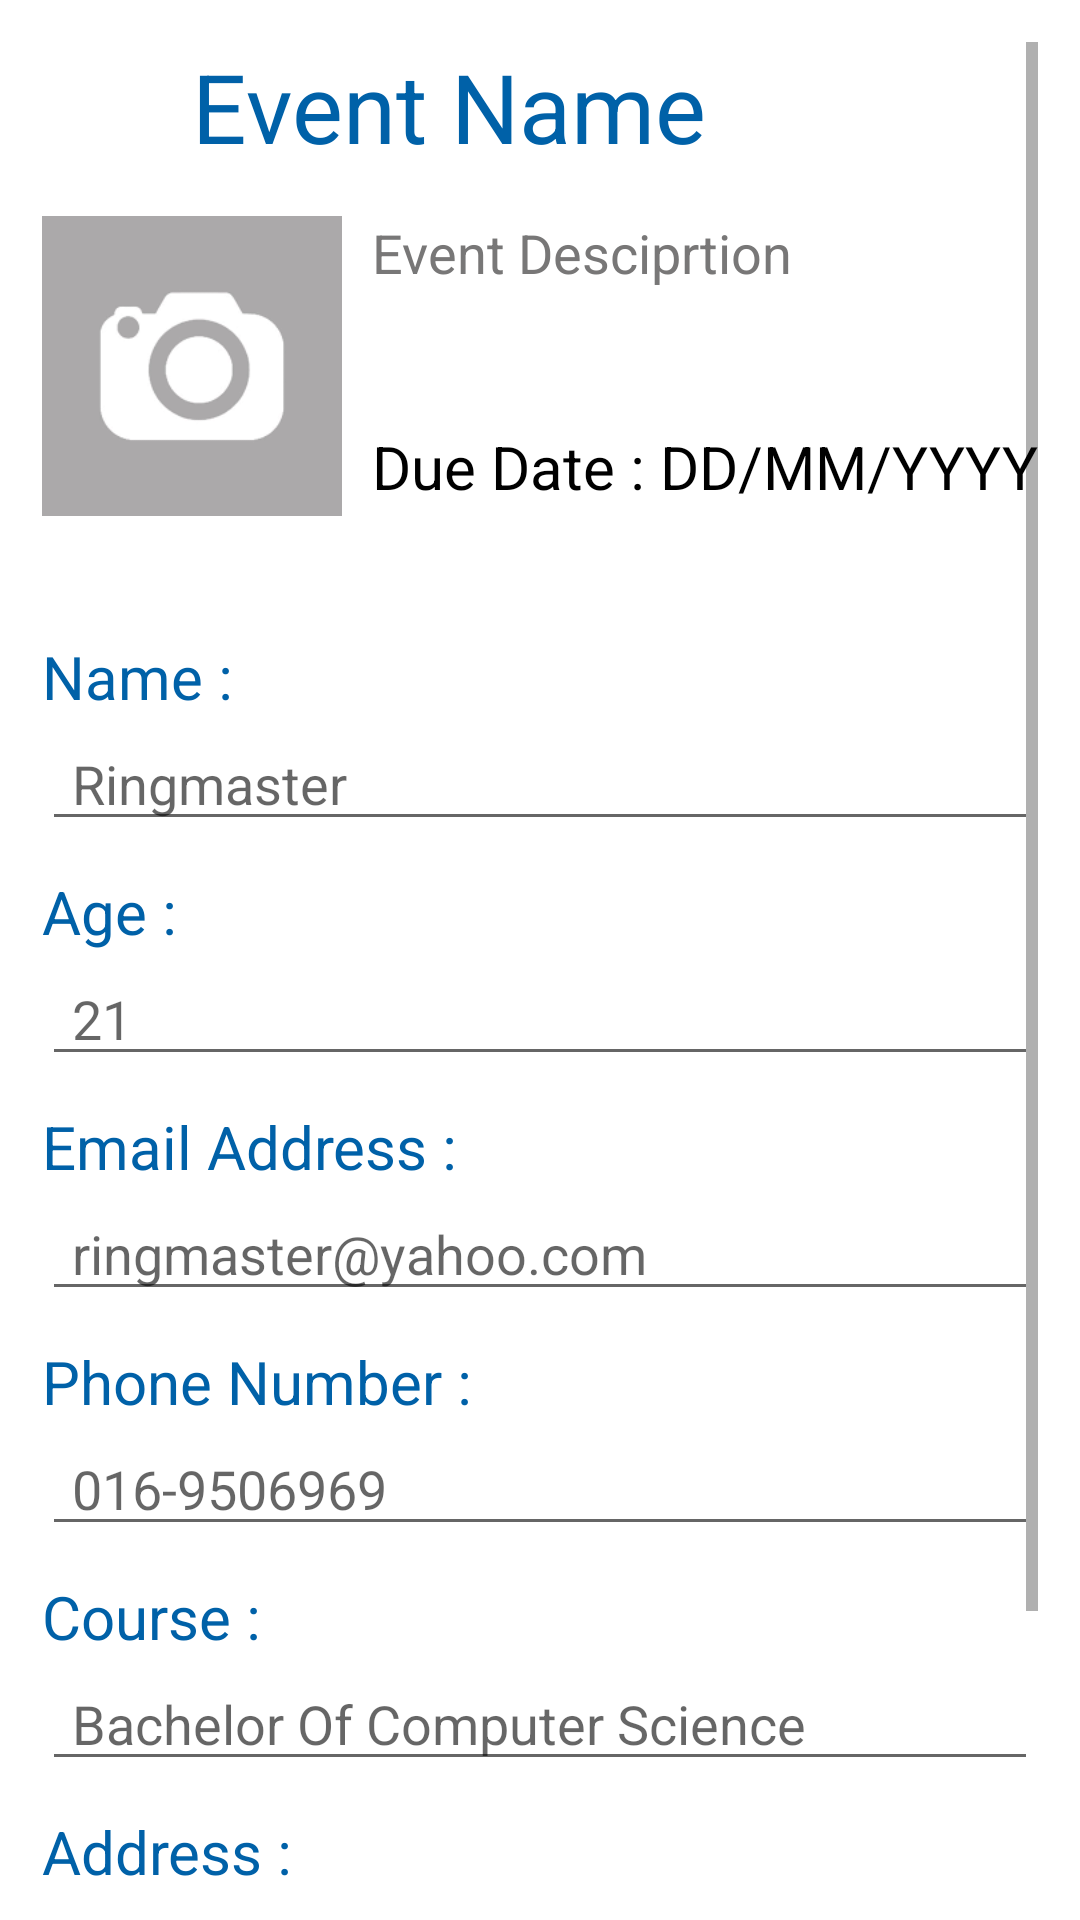

Where to tap for icons on this 1080*1920 app screen, as point (x, y):
empty photo: point (192, 366)
